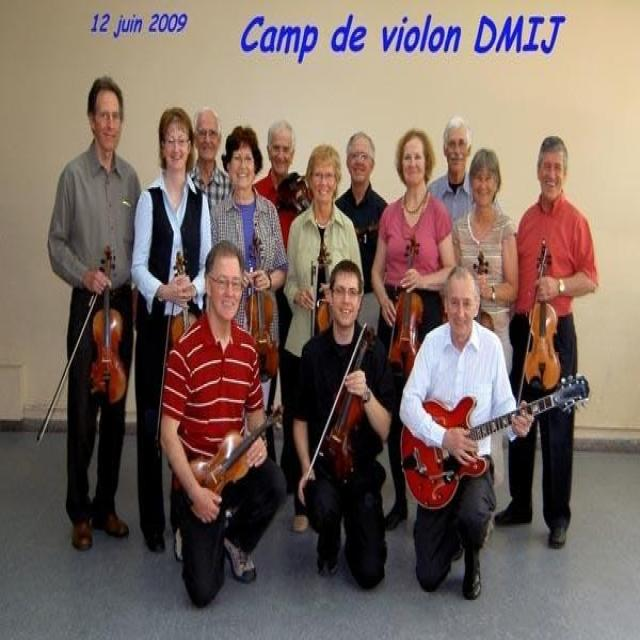guitar: (400, 372, 591, 513)
violin: (191, 403, 286, 514), (322, 325, 377, 475), (523, 242, 565, 393), (387, 235, 432, 370), (91, 247, 128, 404), (246, 235, 281, 378), (170, 250, 197, 344), (314, 244, 338, 332)
